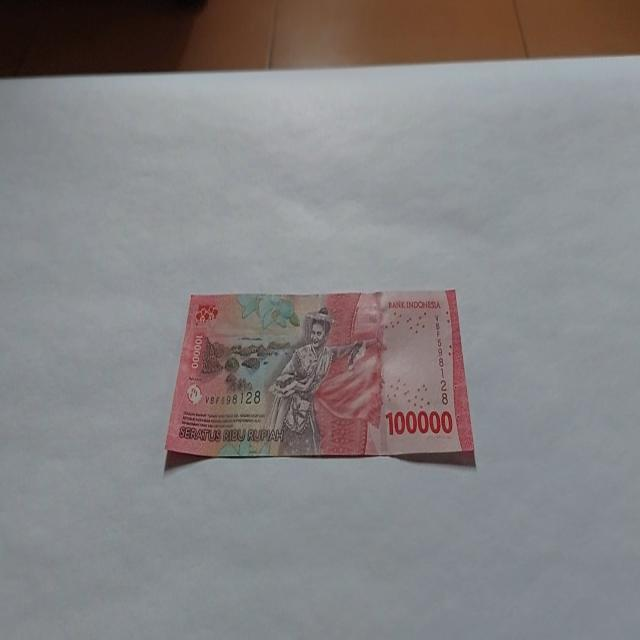seratus ribu rupiah: (164, 287, 476, 469), (262, 305, 367, 455)
